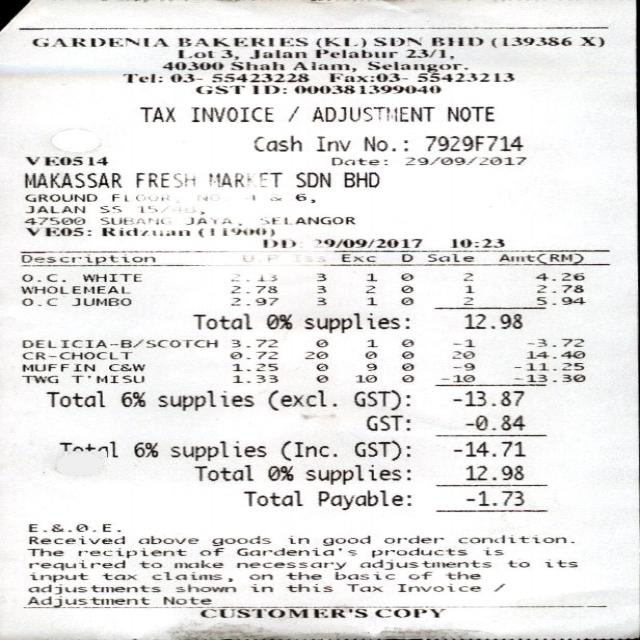text: (302, 311, 408, 332), (304, 464, 408, 484), (156, 389, 253, 410), (315, 488, 408, 509), (169, 440, 265, 460), (312, 106, 433, 120), (22, 339, 217, 347), (199, 608, 367, 617), (26, 583, 159, 594), (267, 389, 336, 410), (23, 172, 119, 187), (425, 136, 521, 150), (19, 253, 152, 263), (175, 36, 306, 46), (358, 559, 489, 569), (190, 106, 271, 122), (22, 596, 148, 606), (366, 59, 465, 71), (78, 547, 185, 558), (293, 84, 439, 92), (452, 440, 524, 456), (280, 440, 336, 460), (208, 171, 282, 186), (354, 440, 409, 460), (31, 38, 166, 46), (452, 390, 524, 405), (354, 388, 408, 408), (28, 559, 125, 570), (191, 464, 253, 480), (242, 489, 300, 506), (404, 156, 526, 164), (191, 312, 252, 328), (464, 414, 525, 430), (416, 72, 512, 82), (489, 36, 568, 48), (236, 547, 354, 555), (45, 390, 103, 406), (58, 440, 115, 456), (464, 464, 520, 480), (135, 172, 194, 187), (211, 72, 308, 81), (370, 547, 466, 556), (314, 238, 421, 246), (464, 313, 520, 328), (455, 535, 573, 542), (466, 490, 524, 504), (150, 571, 230, 581), (27, 535, 124, 543), (496, 253, 582, 262), (235, 562, 345, 569), (256, 215, 352, 223), (22, 351, 131, 358), (253, 135, 300, 151), (313, 48, 396, 57), (328, 72, 408, 81), (101, 227, 187, 235), (198, 227, 274, 236), (25, 156, 107, 164), (20, 286, 128, 292), (363, 136, 406, 151), (446, 106, 492, 120), (374, 608, 445, 617), (211, 535, 269, 546), (27, 524, 118, 531), (292, 61, 353, 71), (314, 36, 364, 48), (396, 584, 479, 591), (138, 106, 174, 122), (23, 193, 95, 201), (21, 363, 93, 371), (513, 373, 585, 381), (366, 415, 407, 429), (71, 374, 142, 382), (135, 205, 204, 213), (162, 60, 223, 69), (247, 50, 306, 59), (322, 534, 370, 545), (28, 572, 86, 581), (405, 48, 452, 59), (25, 227, 89, 235), (342, 172, 378, 186), (511, 362, 583, 369), (98, 216, 169, 223), (316, 136, 349, 151), (111, 192, 166, 201), (372, 36, 421, 46), (23, 205, 84, 213), (23, 216, 84, 224), (174, 584, 235, 592), (228, 60, 282, 69), (71, 297, 131, 305), (138, 535, 198, 543), (81, 273, 139, 281), (525, 350, 583, 358), (334, 572, 392, 580), (295, 172, 328, 186), (526, 338, 582, 346), (195, 85, 244, 94), (449, 238, 503, 246), (430, 37, 481, 45), (534, 296, 585, 304), (384, 535, 442, 542), (285, 583, 330, 592), (330, 157, 386, 164), (535, 272, 584, 280), (266, 465, 292, 480), (230, 297, 278, 305), (120, 391, 144, 407), (186, 217, 240, 224), (536, 284, 583, 292), (230, 285, 275, 293), (232, 374, 277, 382), (231, 273, 275, 281), (425, 253, 475, 260), (265, 314, 290, 328), (232, 362, 275, 370), (132, 442, 156, 456), (174, 560, 222, 567), (162, 596, 209, 603), (230, 351, 276, 358), (250, 84, 285, 93), (230, 339, 275, 346), (122, 73, 160, 81), (106, 363, 144, 371), (27, 547, 60, 556), (339, 253, 375, 261), (21, 274, 62, 281), (177, 49, 212, 57), (438, 373, 473, 381), (21, 374, 56, 382), (285, 572, 320, 580), (168, 73, 202, 81), (578, 36, 602, 47), (292, 253, 324, 261), (241, 253, 277, 260), (345, 584, 381, 591), (262, 239, 295, 246), (444, 572, 480, 578), (21, 298, 56, 304), (218, 49, 237, 60), (102, 573, 135, 579), (544, 560, 576, 566), (200, 547, 223, 555), (138, 560, 161, 568), (294, 193, 314, 202), (98, 205, 120, 213), (304, 350, 326, 358), (452, 350, 474, 358), (452, 362, 473, 370), (194, 193, 217, 200), (452, 339, 474, 346), (288, 106, 298, 121), (406, 572, 431, 578), (506, 560, 528, 566), (250, 586, 272, 592), (247, 574, 271, 579), (399, 350, 412, 359), (399, 296, 413, 304), (286, 538, 308, 543), (315, 362, 327, 371), (363, 350, 376, 358), (460, 296, 471, 305), (364, 373, 375, 382), (400, 374, 414, 381), (460, 272, 472, 280), (315, 338, 327, 346), (400, 284, 411, 292), (400, 362, 411, 370), (315, 374, 326, 382), (492, 583, 503, 591), (485, 549, 502, 554), (400, 272, 410, 280), (364, 296, 374, 304), (366, 362, 376, 370), (267, 193, 278, 200), (400, 254, 411, 261), (400, 339, 411, 346), (463, 285, 472, 293), (244, 193, 254, 200), (366, 273, 376, 280), (365, 285, 373, 293), (317, 285, 325, 293), (367, 339, 376, 346), (316, 273, 324, 280), (317, 297, 325, 304)
